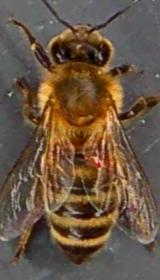varroa_mite: (85, 147, 116, 172)
